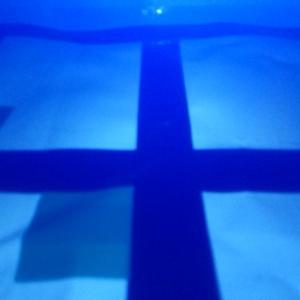bottom_left: (15, 152, 193, 277)
